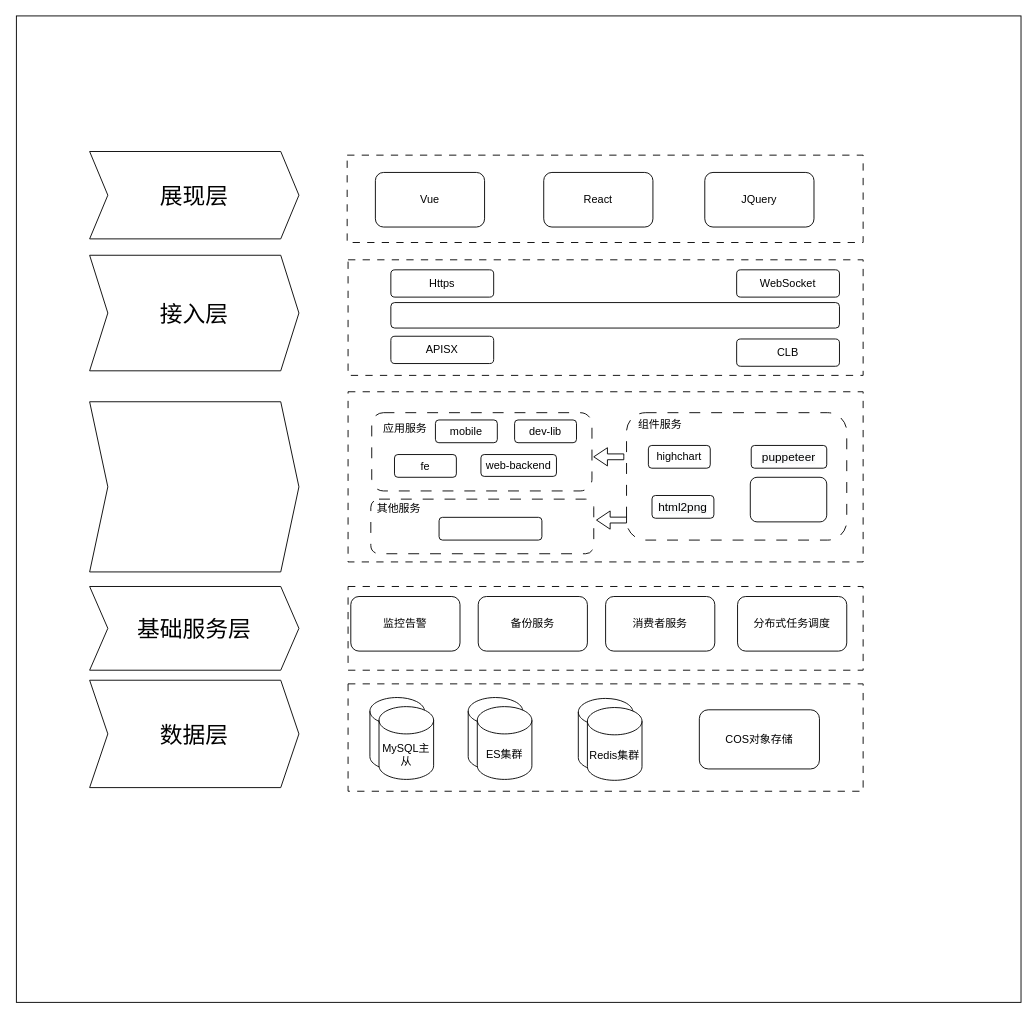
Some shapes in this 1036 by 1018 pixel diagram are drawn without their labels. Here are the shapes that lost their labels. From the top down, the centre of each, then its label:
pixel 614 315: WAF
pixel 194 486: 应用服务层
pixel 788 499: video-transcoding
pixel 490 528: python-stat
